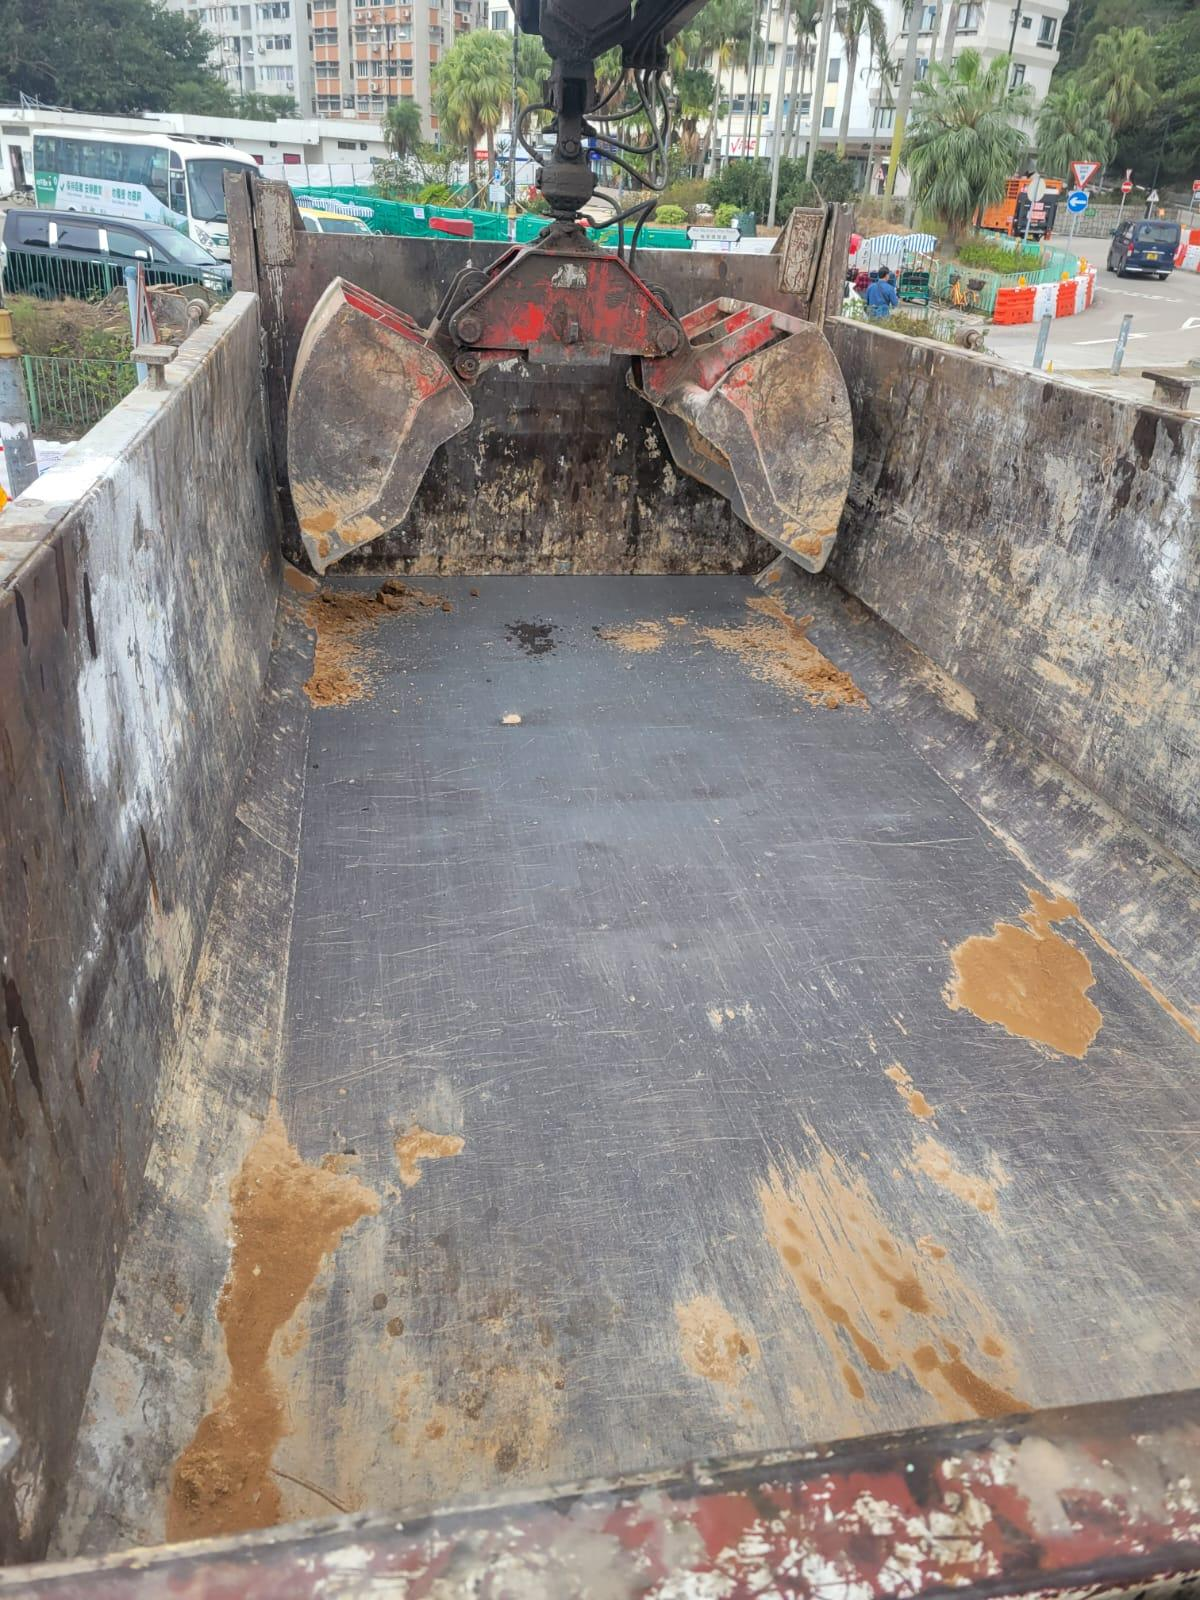nothing: (270, 569, 1200, 1527)
